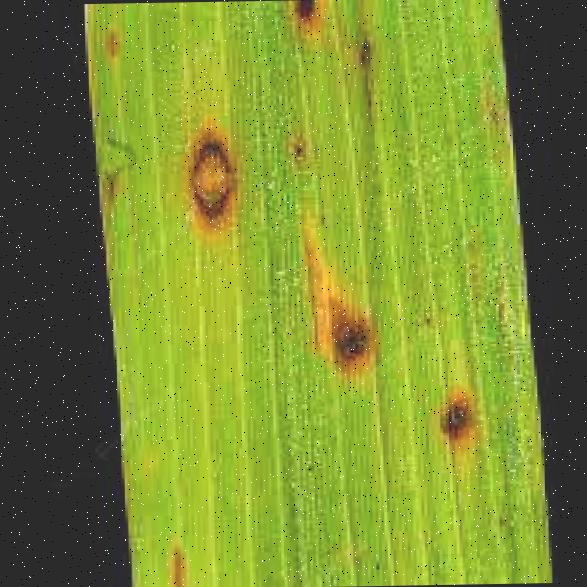Brown_Spot: (290, 238, 387, 380), (172, 103, 256, 230), (404, 355, 509, 452), (148, 532, 192, 587), (90, 12, 128, 63), (282, 0, 320, 29)
